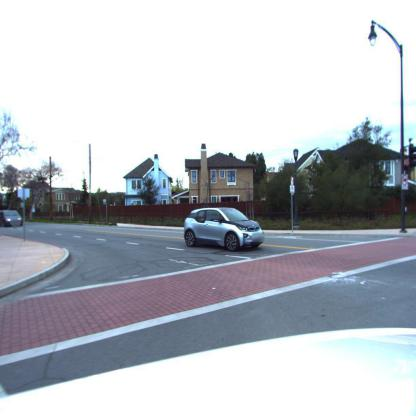car: (181, 206, 266, 251), (1, 210, 24, 228)
